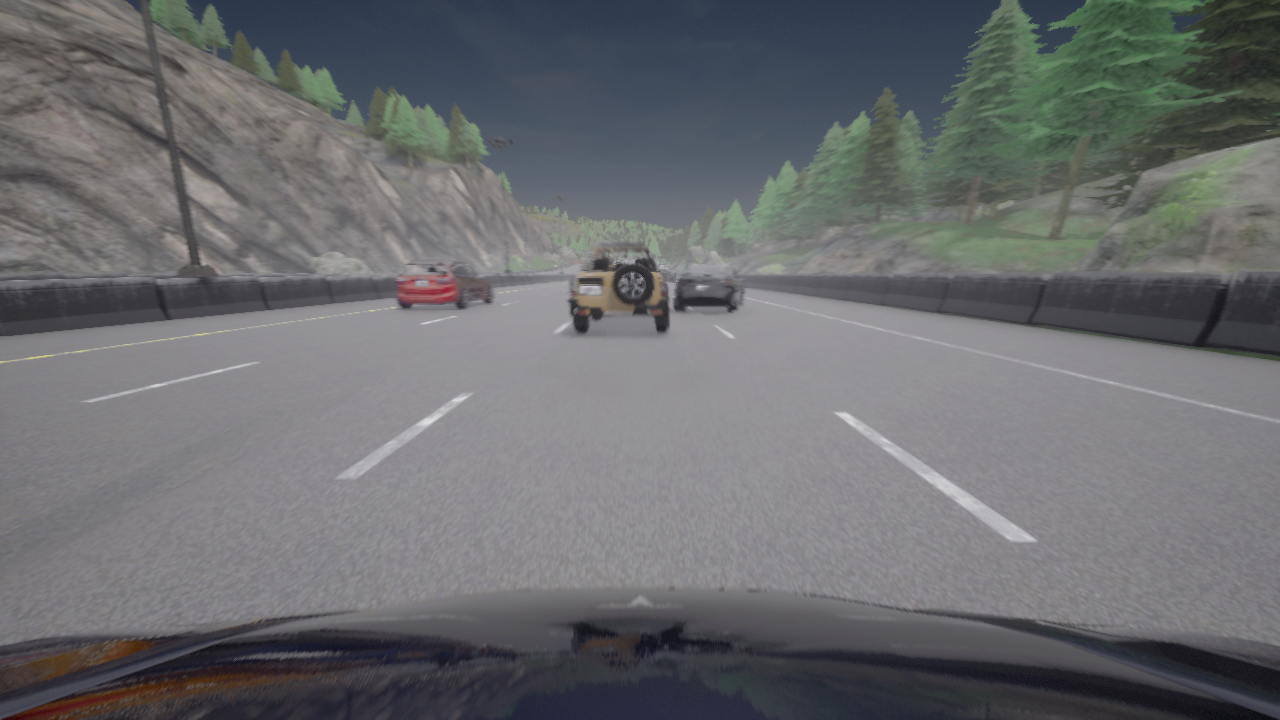cyclist: (0, 588, 1279, 719), (568, 242, 668, 332), (396, 260, 493, 308), (674, 265, 744, 311), (569, 270, 578, 292), (662, 271, 675, 282), (681, 275, 683, 276)
